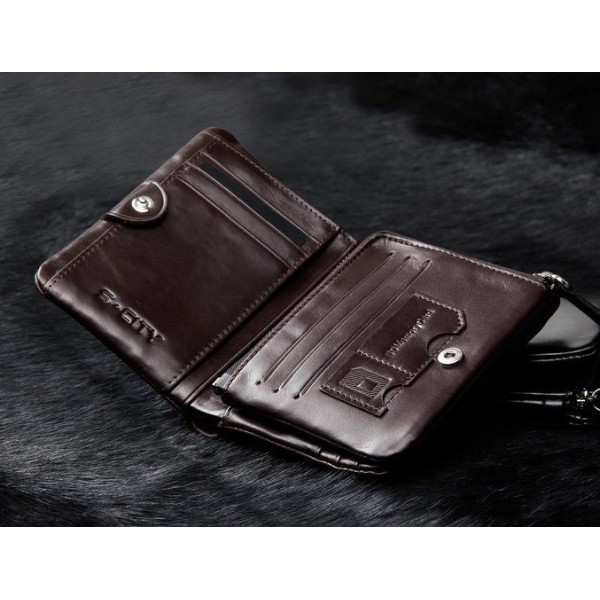monedero: (33, 126, 566, 478)
